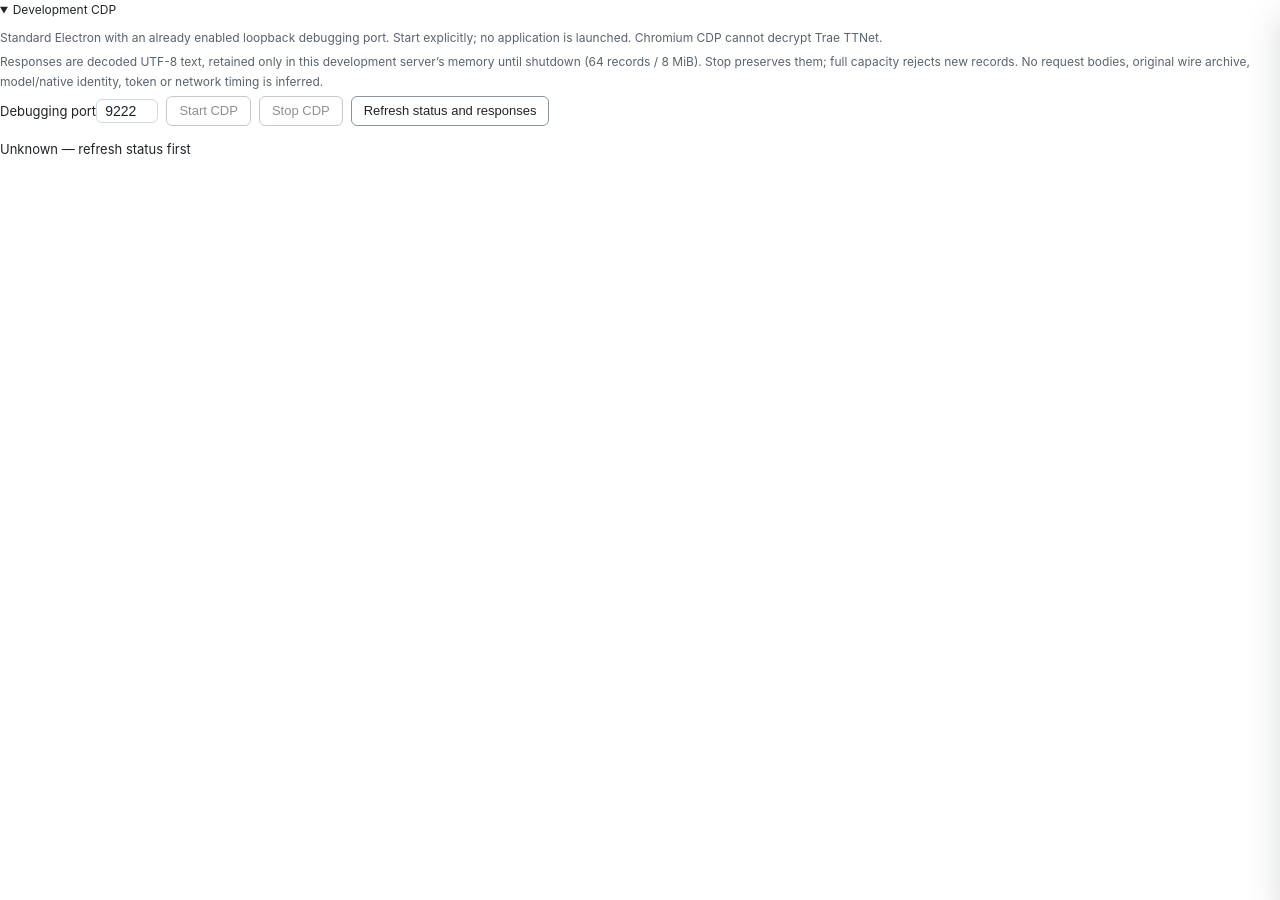
Scenario: explicit development CDP workspace › opens without IO, refreshes bounded metadata explicitly and reads only a selected inert response
Check: the button "Start CDP" is disabled, box x1=166 y1=96 x2=251 y2=126
Click the button "Refresh status and responses": (450, 111) x1=351 y1=96 x2=549 y2=126
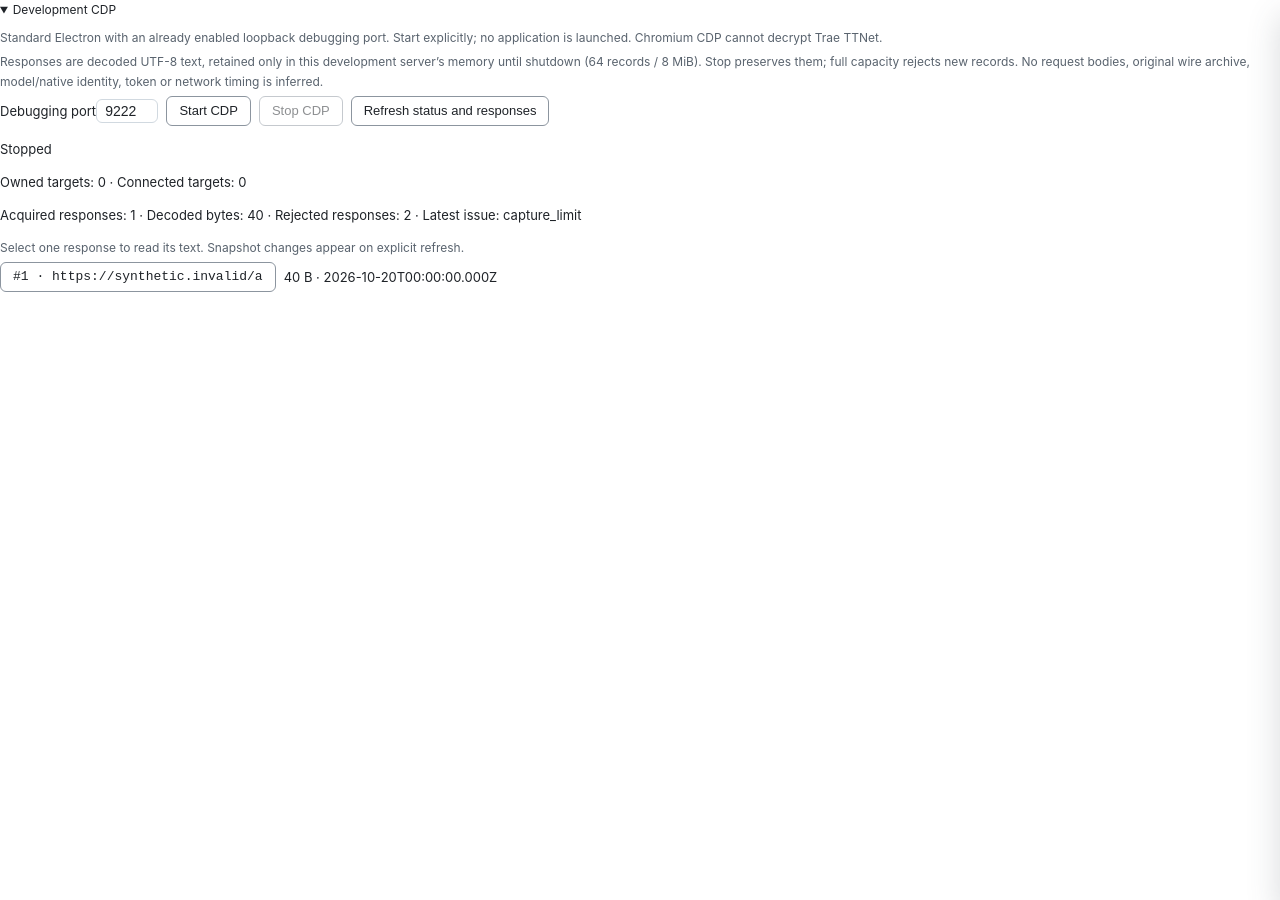
Check: the text "Rejected responses: 2" is shown, box x1=0 y1=207 x2=582 y2=223
Check: the text "capture_limit" is shown, box x1=503 y1=207 x2=582 y2=223
Check: the button "#1 · https://synthetic.invalid/a" is shown
Click the button "#1 · https://synthetic.invalid/a": (138, 277) x1=0 y1=262 x2=276 y2=292
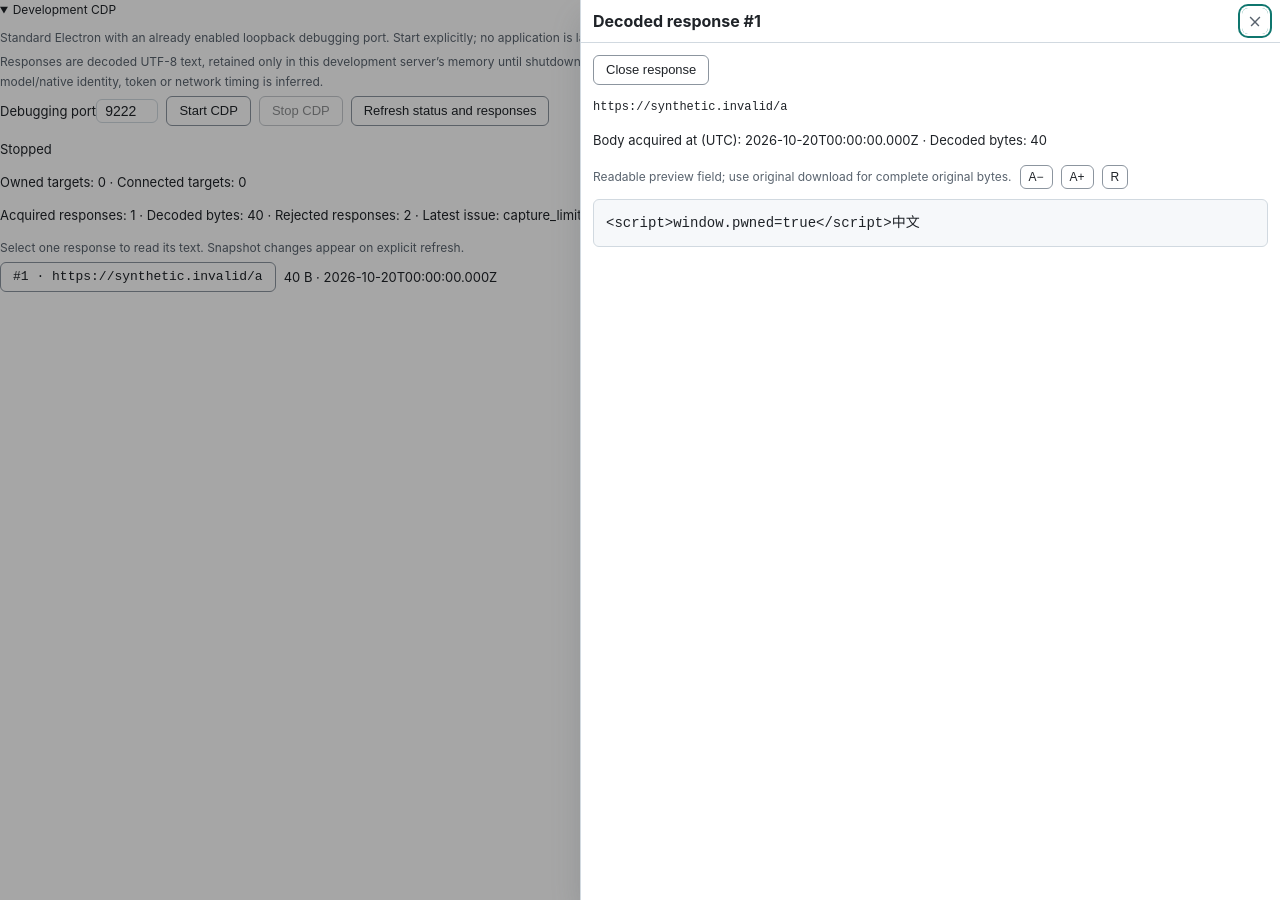
Check: the text "Body acquired at (UTC)" is shown, box x1=593 y1=132 x2=738 y2=148
Check: the button "A+" is shown
Click the button "A+": (1077, 177) x1=1060 y1=165 x2=1094 y2=189
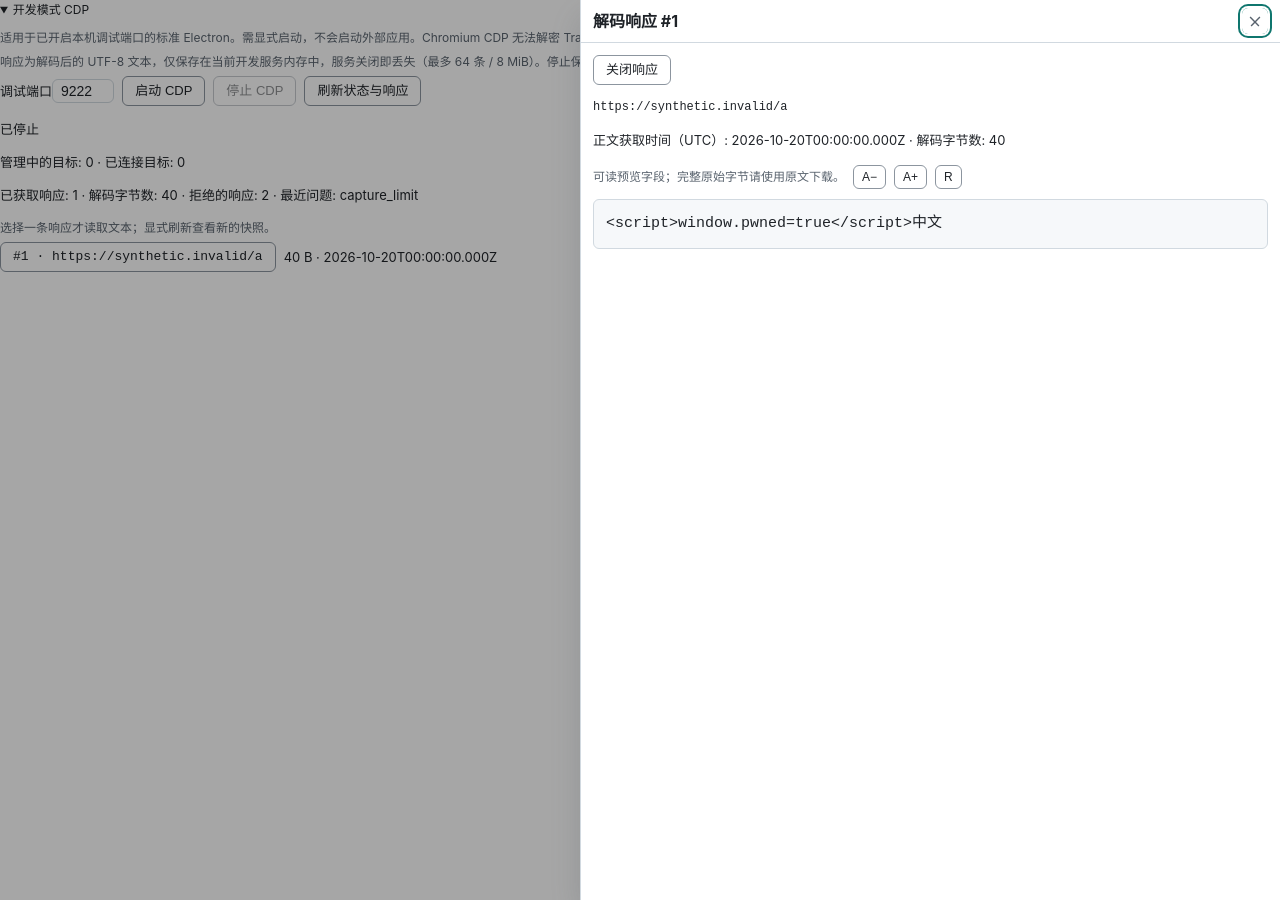
Check: the text "正文获取时间" is shown, box x1=593 y1=132 x2=724 y2=148
